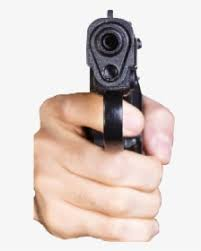gun: (31, 8, 175, 242)
